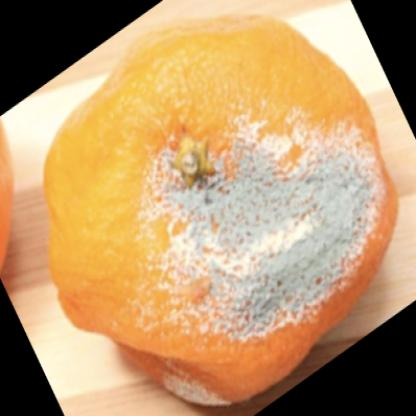rotten: (46, 18, 397, 410)
